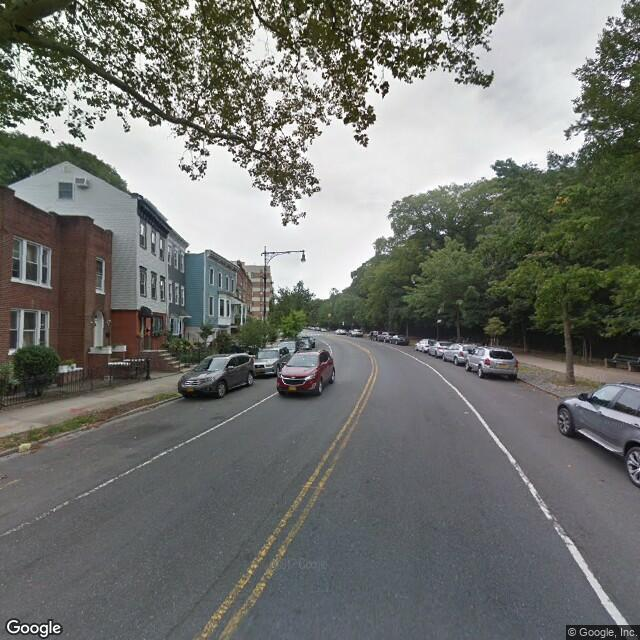litter: (464, 408, 470, 414)
